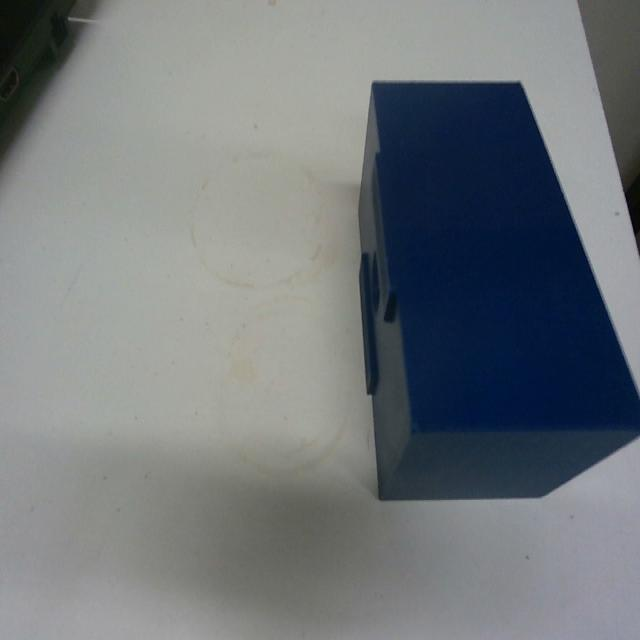Blue Cuboid: (355, 76, 639, 501)
